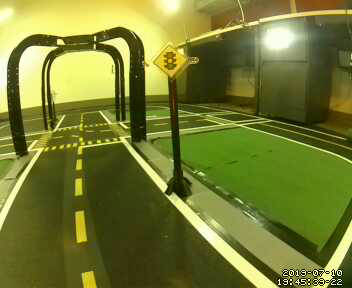Traffic light sign: (153, 45, 188, 75)
